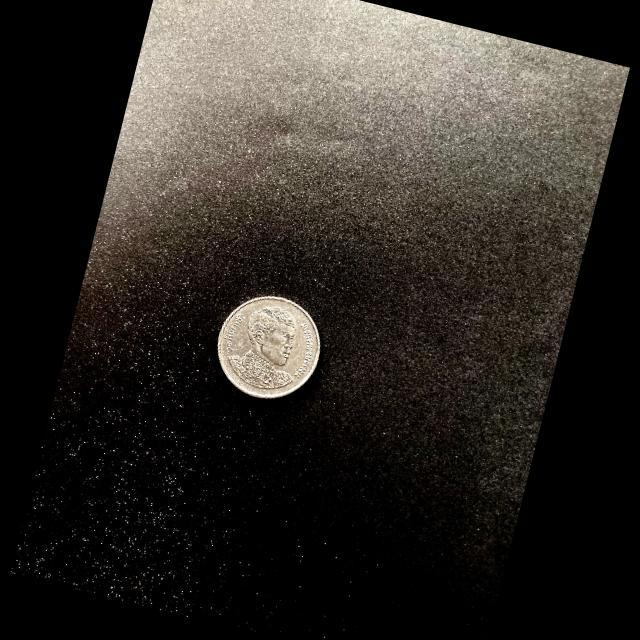1 Bath: (217, 297, 324, 401)
